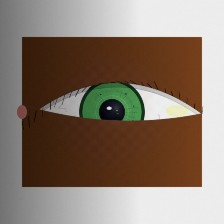pinguecula_lesion: (154, 93, 200, 129)
